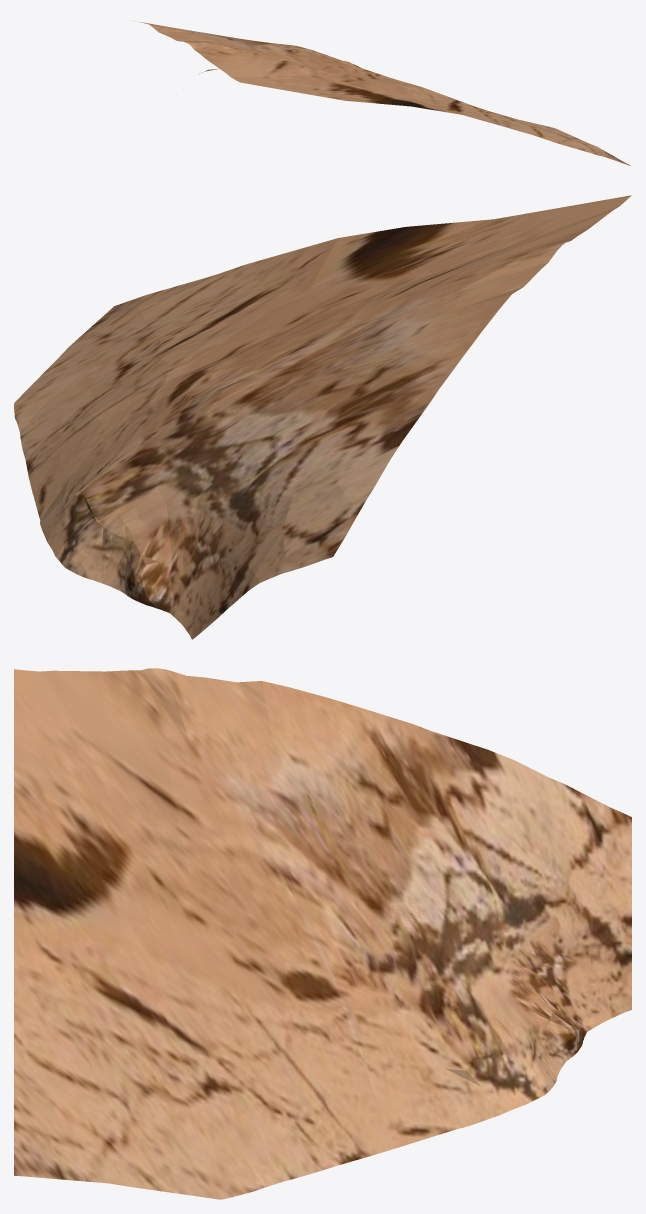
3 views of the same model, one above another, from view 1: azimuth 30°, elevation 25°; view 2: azimuth 150°, elevation 25°; view 3: azimuth 270°, elevation 25° (orthographic). The views are drawn at different scales.
Bounding box in the file's own units: 1.04 × 0.5041 × 1.04.
2 materials, 2 textured.
